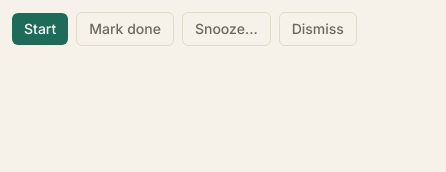
Scenario: ActionStatusControls › explains unauthenticated without refreshing
The width and height of the screenshot is (446, 172).
Step 1. Click the button "Start" → {"x": 40, "y": 29}, box [12,13,68,45]
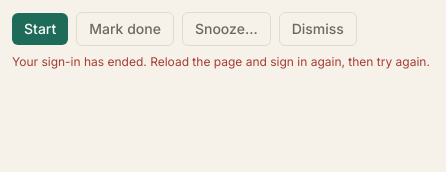
Expected: the message reads "Your sign-in has ended. Reload the page and sign in again, then try again.", [12,54,430,69]
